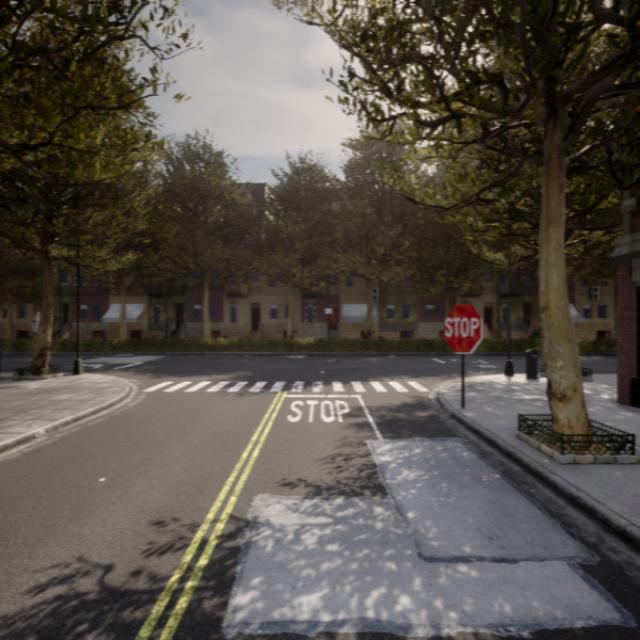stop sign: (441, 300, 485, 355), (443, 315, 480, 339)
